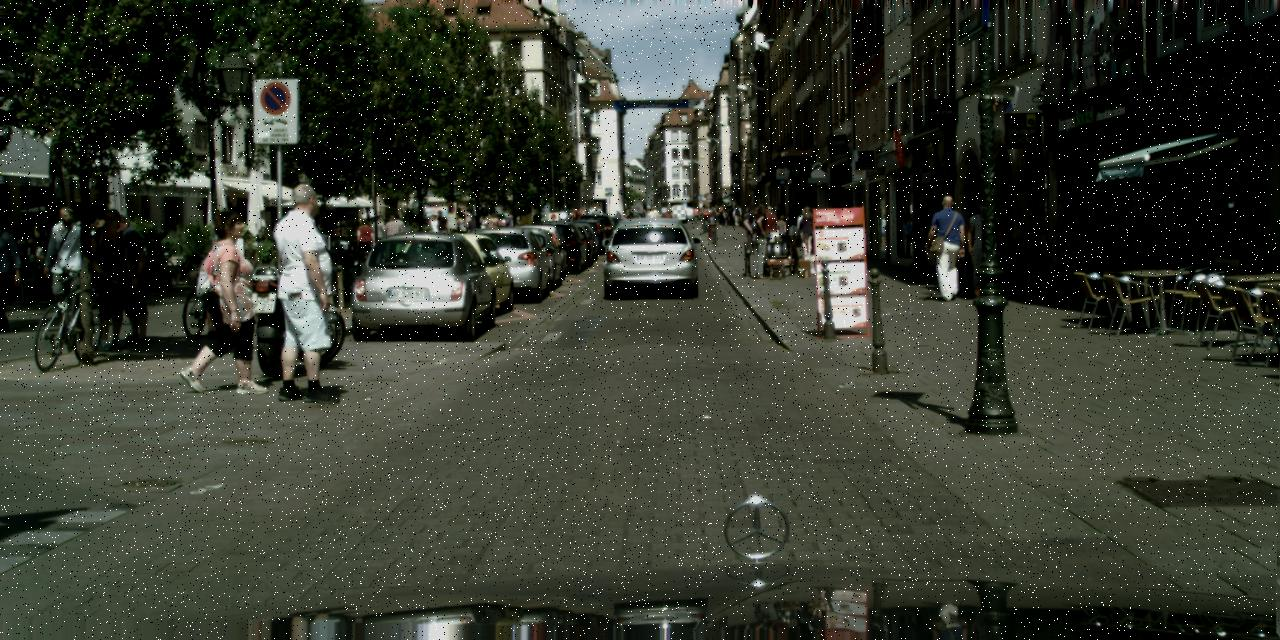ped: (258, 182, 348, 400), (190, 211, 263, 390), (84, 209, 141, 349), (40, 205, 94, 338), (104, 212, 157, 341), (966, 200, 1004, 296), (0, 216, 24, 331), (745, 204, 775, 278), (797, 206, 818, 260), (759, 205, 780, 257), (381, 214, 401, 265), (354, 220, 374, 266), (742, 207, 761, 252), (368, 215, 386, 261), (794, 208, 812, 254), (787, 206, 803, 247), (568, 205, 603, 221), (708, 206, 734, 227), (434, 211, 448, 247), (425, 214, 439, 248), (466, 216, 478, 246), (775, 204, 787, 232), (776, 214, 788, 242), (769, 206, 780, 236), (732, 203, 741, 226), (718, 208, 725, 226), (693, 206, 698, 218), (722, 222, 723, 227)
